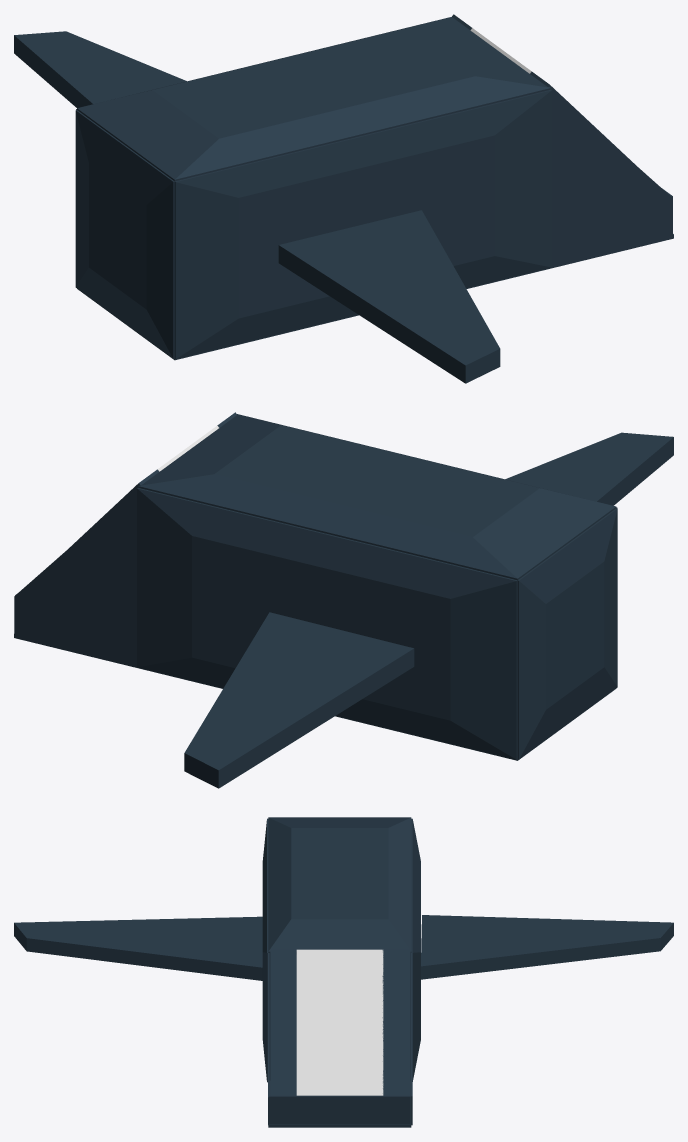
File: shipprototype.fbx
The picture shows the model from 3 angles, top to bottom: view 1: azimuth 30°, elevation 25°; view 2: azimuth 150°, elevation 25°; view 3: azimuth 270°, elevation 25°; orthographic projection. The views are drawn at different scales.
Parts seen in each view (by area): view 1: Cube.001, Cube, Cube.011, Cube.009, Cube.002, Cube.012, Cube.013, Cube.004; view 2: Cube.003, Cube, Cube.012, Cube.010, Cube.002, Cube.011, Cube.013, Cube.004; view 3: Cube, Cube.005, Cube.012, Cube.011, Cube.006, Cube.007, Cube.008, Cube.003, Cube.001, Cube.004.
Boxes of the visible parts, x1,y1,x2,y2 form: Cube.001: (174, 89, 551, 359); Cube: (77, 17, 550, 181); Cube.011: (278, 210, 500, 383); Cube.009: (552, 91, 672, 265); Cube.002: (75, 110, 174, 358); Cube.012: (14, 31, 186, 107); Cube.013: (89, 163, 146, 309); Cube.004: (77, 234, 673, 360); Cube.003: (137, 488, 517, 759); Cube: (138, 414, 616, 580); Cube.012: (184, 612, 414, 788); Cube.010: (14, 489, 136, 666); Cube.002: (517, 508, 617, 759); Cube.011: (505, 432, 673, 505); Cube.013: (546, 562, 604, 709); Cube.004: (14, 634, 615, 760); Cube: (268, 817, 411, 954); Cube.005: (296, 949, 383, 1095); Cube.012: (421, 915, 673, 979); Cube.011: (14, 916, 262, 980); Cube.006: (269, 1095, 410, 1124); Cube.007: (382, 949, 410, 1095); Cube.008: (270, 949, 296, 1095); Cube.003: (410, 818, 420, 1081); Cube.001: (262, 818, 270, 1082); Cube.004: (268, 955, 411, 1127).
Bounding box in the file's own units: 1078 × 399 × 1662.
